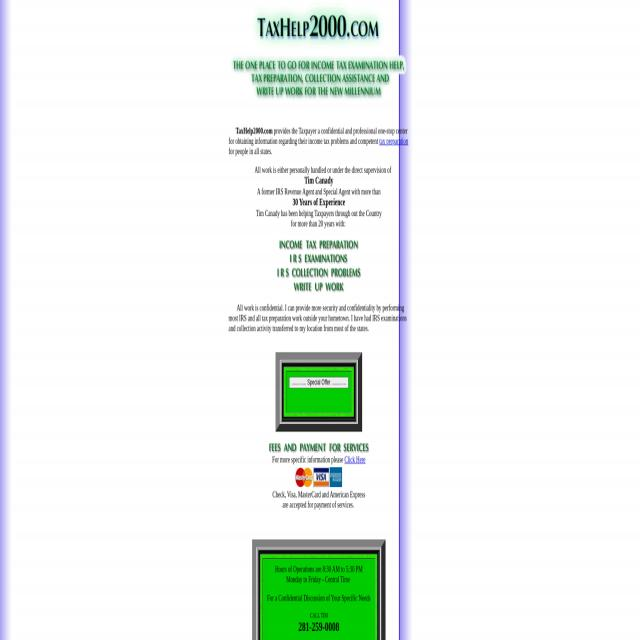button: (229, 51, 409, 106), (250, 0, 387, 52), (267, 237, 370, 252), (267, 265, 370, 280), (267, 440, 370, 455), (267, 252, 370, 266), (267, 280, 370, 294), (296, 467, 342, 487)
field: (285, 376, 352, 388)
